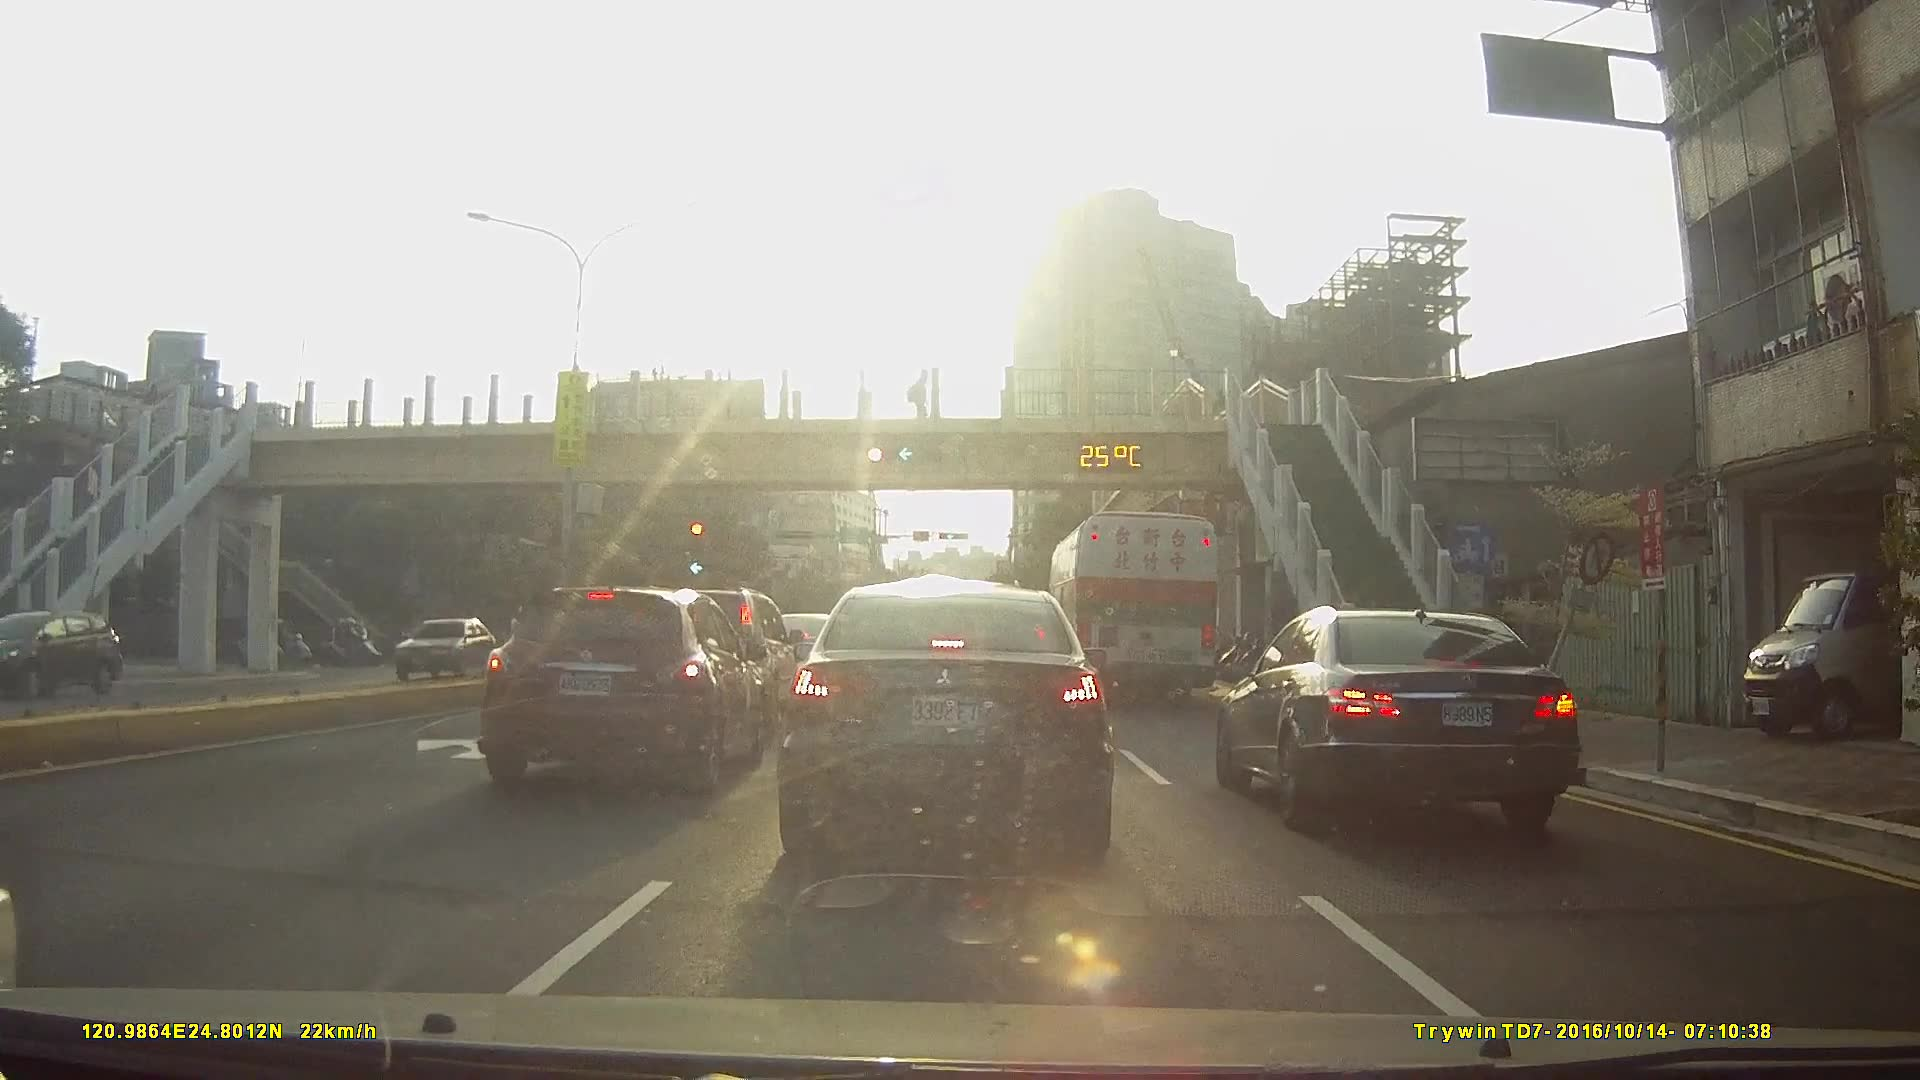pedestrian: (910, 370, 932, 418)
rider: (322, 615, 390, 671)
vehicle: (772, 578, 1118, 861), (1210, 600, 1575, 834), (471, 580, 770, 793), (1048, 509, 1220, 701), (0, 608, 120, 701), (384, 616, 493, 680)
